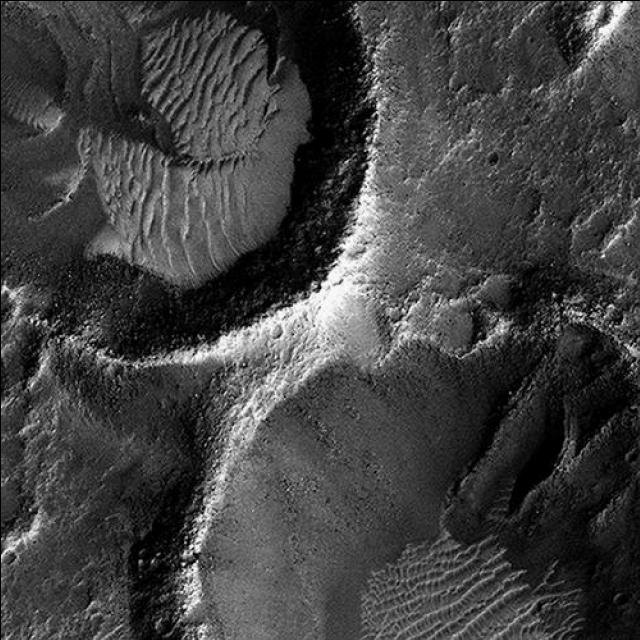crater: (126, 269, 640, 640), (0, 0, 382, 379), (413, 0, 640, 115)
